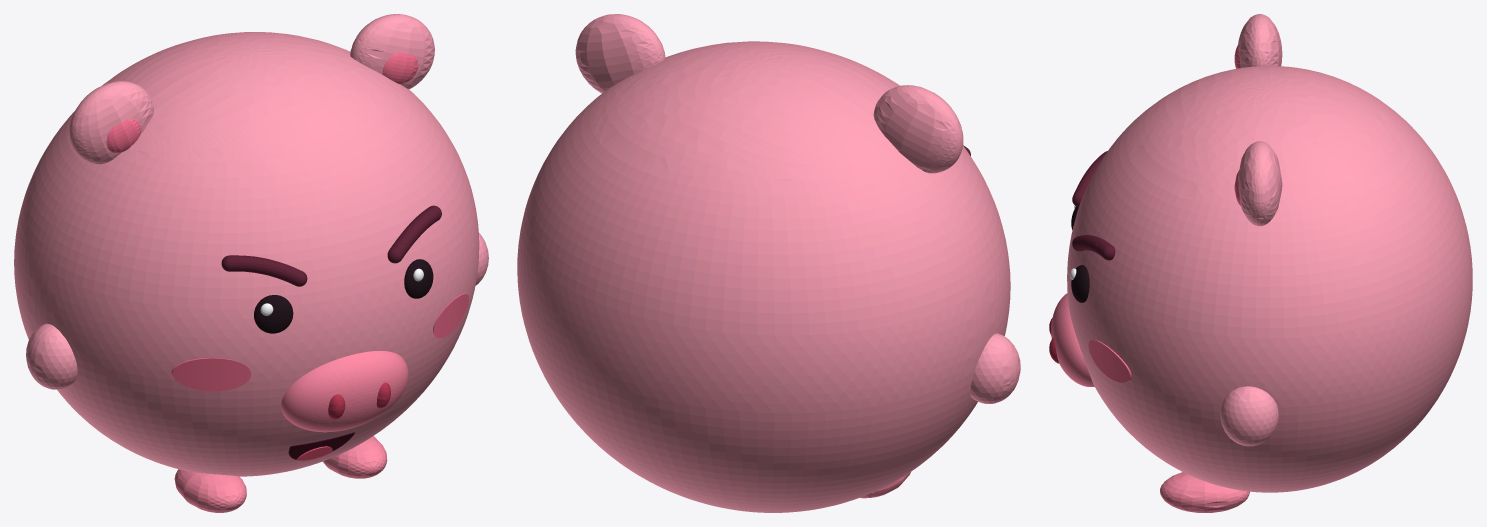
The model's file is yhon.glb.
The picture shows the model from 3 angles, left to right: view 1: azimuth 30°, elevation 25°; view 2: azimuth 150°, elevation 25°; view 3: azimuth 270°, elevation 25°; orthographic projection. The views are drawn at different scales.
Parts seen in each view (by area): view 1: body, snout, earR, earL, armR, footR, blushR, footL, browR, browL, eyeR, blushL (+4 smaller); view 2: body, earR, earL, armR; view 3: body, earL, armL, footL, earR, snout, blushL, browL, eyeL, browR.
Part boxes in pixels (x1,y1,x2,y2): body: (14,32,479,476); snout: (281,351,408,432); earR: (69,81,153,164); earL: (350,14,434,89); armR: (26,323,77,389); footR: (174,469,246,512); blushR: (171,358,251,391); footL: (323,436,387,478); browR: (221,255,307,286); browL: (387,205,441,263); eyeR: (254,295,293,333); blushL: (433,293,468,338); body: (517,41,1010,512); earR: (873,85,963,173); earL: (575,14,665,93); armR: (970,333,1020,403); body: (1067,66,1472,492); earL: (1238,141,1282,226); armL: (1220,386,1278,446); footL: (1160,472,1249,512); earR: (1238,14,1282,67); snout: (1051,293,1094,386); blushL: (1088,340,1131,382); browL: (1072,235,1115,260); eyeL: (1071,265,1089,302); browR: (1072,151,1107,206).
Bounding box in the file's own units: 65.91 × 57.9 × 56.29.
